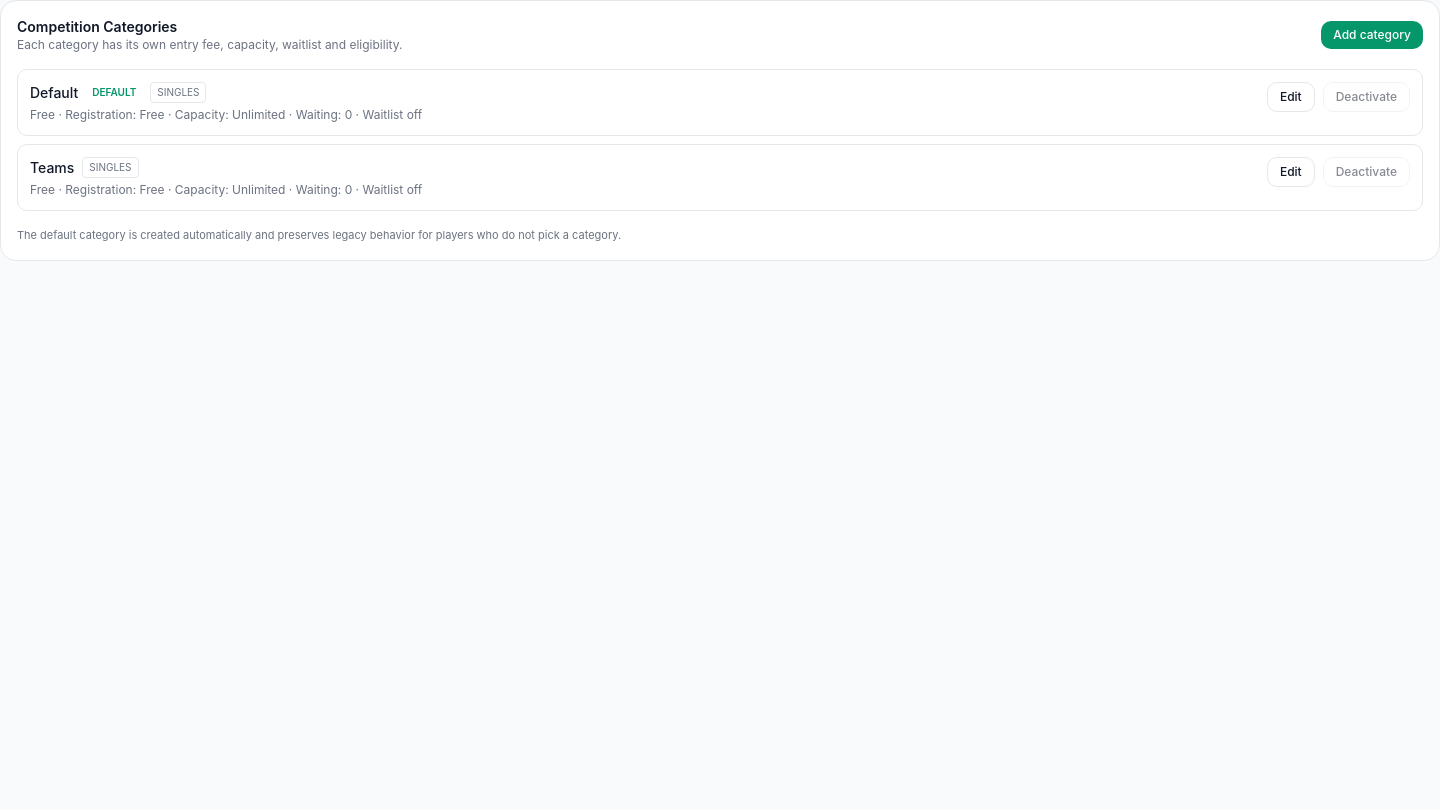
Test: G11.21.2 CompetitionManager edit mode is unaffected › keeps a category EGP even when the tournament is SAR
Step 1. Click the button "Edit" in the row of "Teams" → click(1291, 172), box 1267,157 -> 1315,187
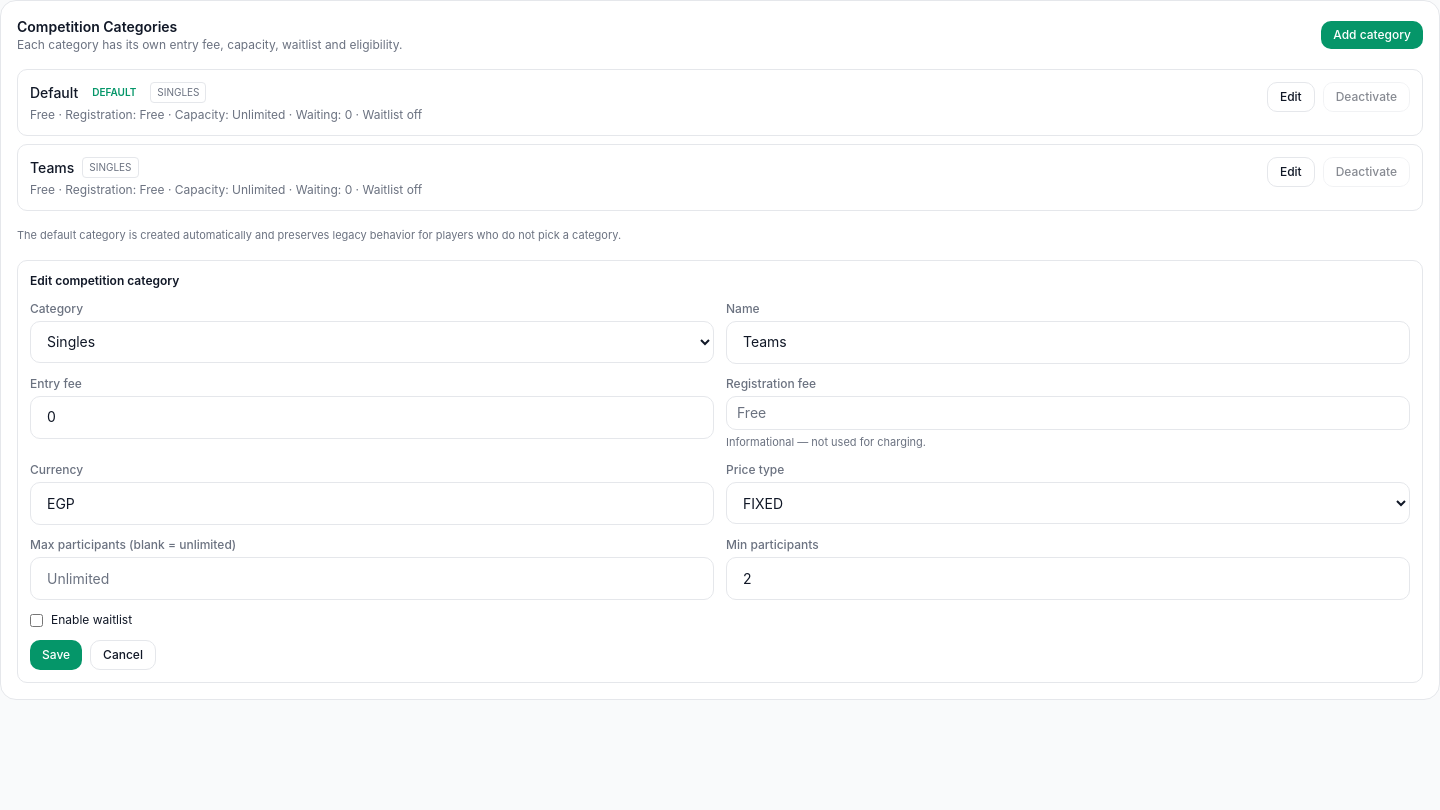
Result: the field labelled "Currency" holds "EGP" at 30,482 -> 714,525
